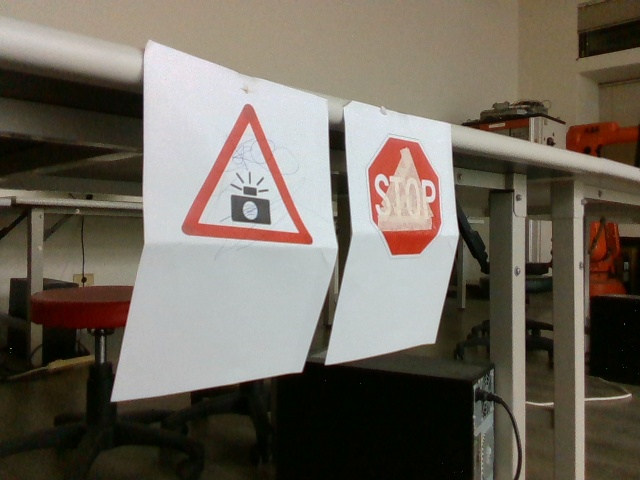camera: (190, 103, 308, 244)
stop: (367, 132, 445, 259)
